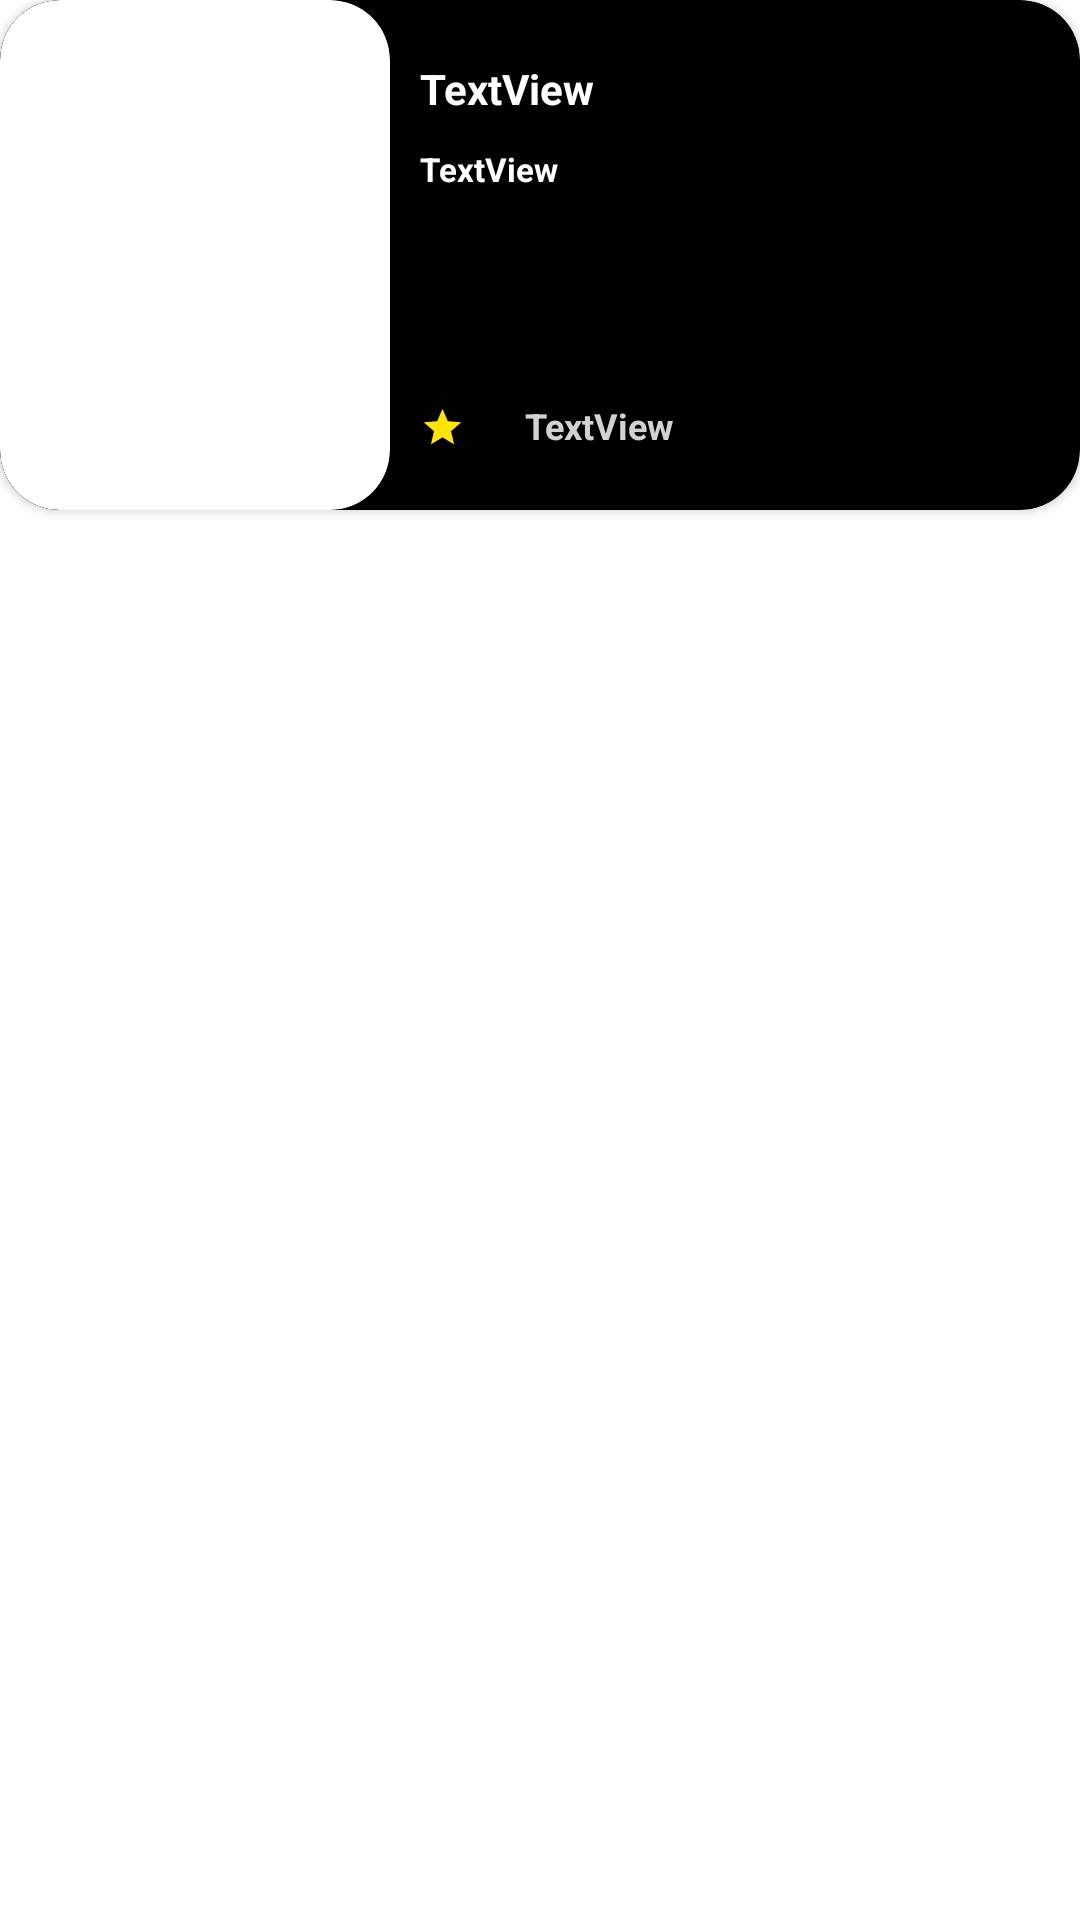

Locate icon controls on the screen. Image size 1080*1920, boxes as bbox(x1, y1, x2, y2).
star iconn: bbox(424, 409, 461, 444)
